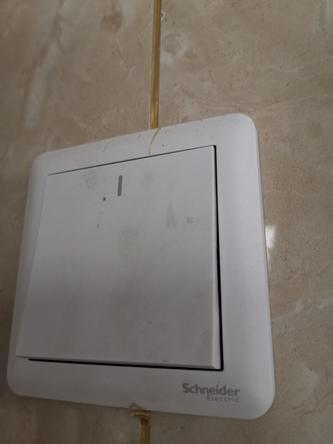switch: (11, 138, 236, 375)
